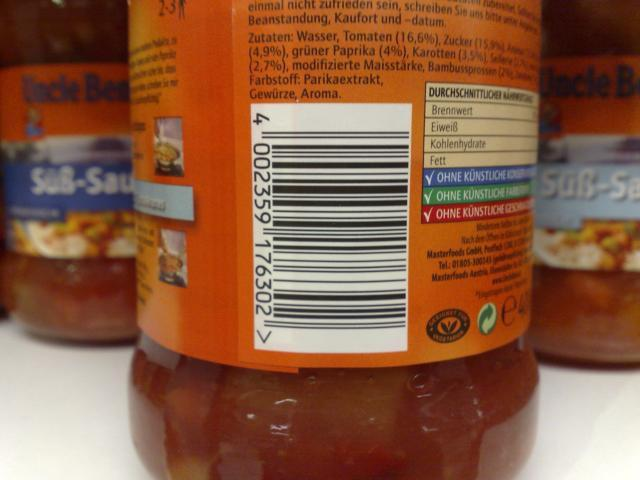Barcode: (251, 104, 411, 352)
